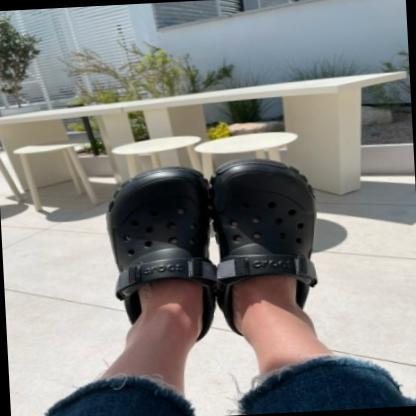no_safety-shoe: (186, 148, 337, 332), (62, 173, 207, 359)
